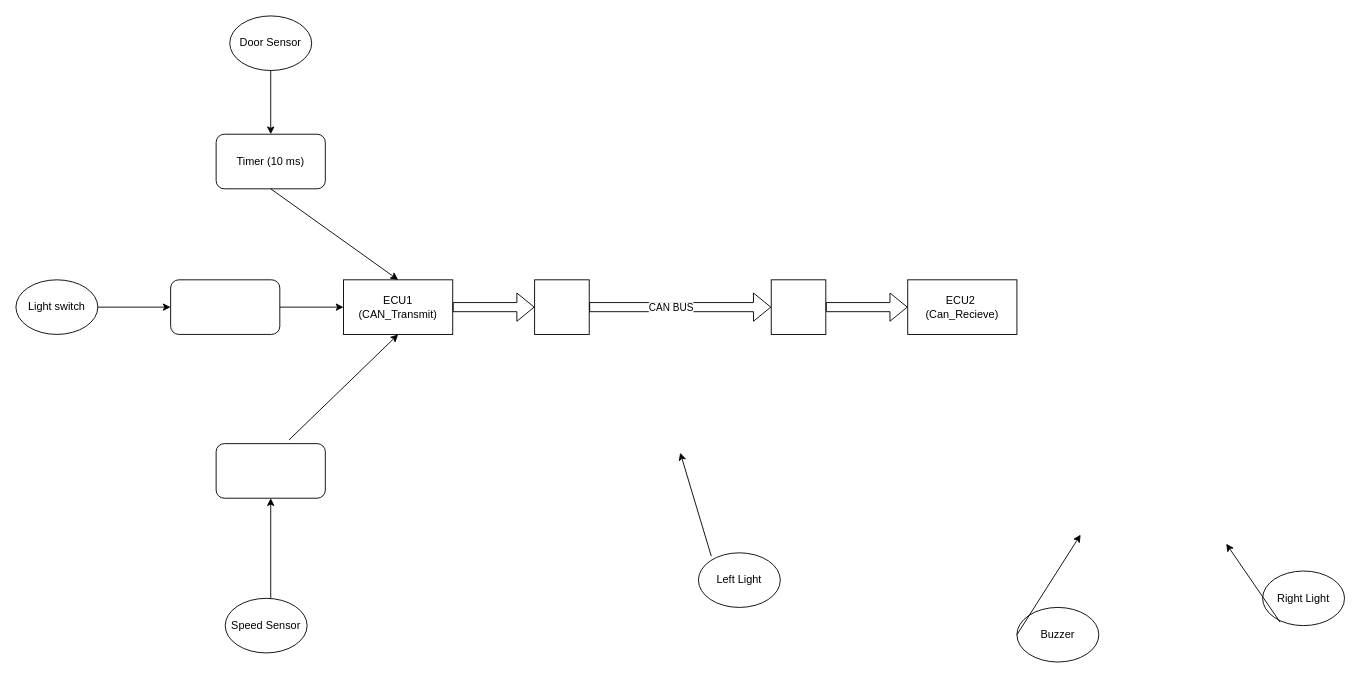
Some shapes in this 1360 by 678 pixel diagram are drawn without their labels. The centre of each missing label's shape, as x and y in pixels:
Decode: the point at 798,306
Encode: the point at 561,306
Timer (20 ms): the point at 225,306
Timer (5 ms): the point at 270,470
